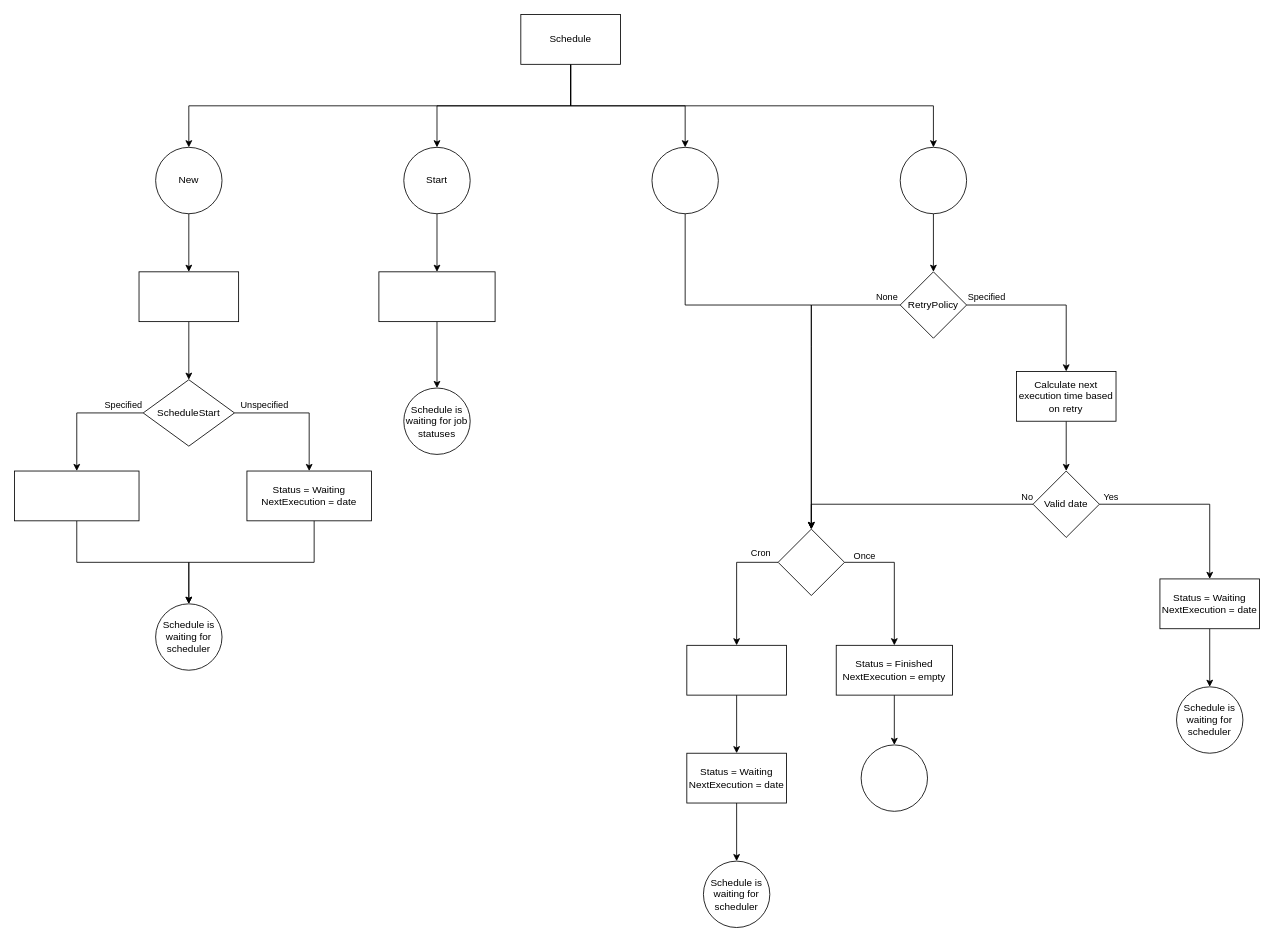
Image size: 1274x942. Some labels were removed from this diagram. The centre of each missing label's shape, as x and y in pixels:
Calculate first execution: point (188, 296)
Calculate frequency based on cron: point (736, 669)
End of schedule: point (894, 777)
Failed: point (933, 180)
Frequency: point (811, 562)
Status = Scheduled LastExecution = now: point (436, 296)
Status = Waiting NextExecution = schedule start date: point (76, 495)
Succeed: point (684, 180)
